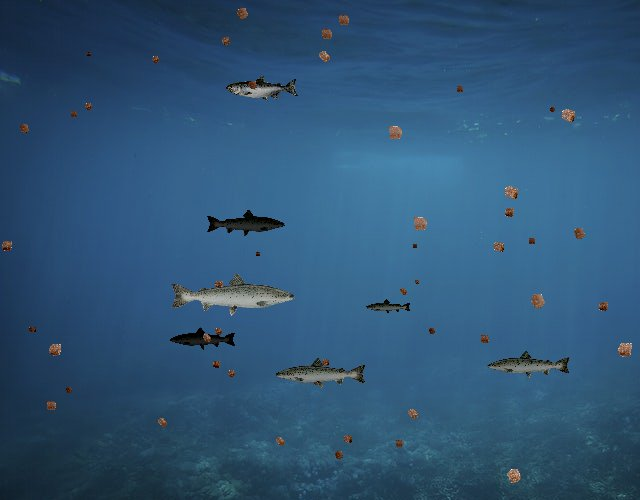Fish: (168, 271, 297, 317), (275, 357, 369, 391), (486, 349, 572, 380), (205, 208, 286, 237), (226, 76, 299, 102), (170, 327, 238, 351), (365, 298, 412, 315)
Pellet: (610, 334, 640, 364), (312, 44, 336, 68), (230, 1, 254, 25), (14, 119, 35, 140), (216, 31, 235, 50), (80, 98, 96, 114), (546, 103, 559, 116), (27, 323, 39, 335)
